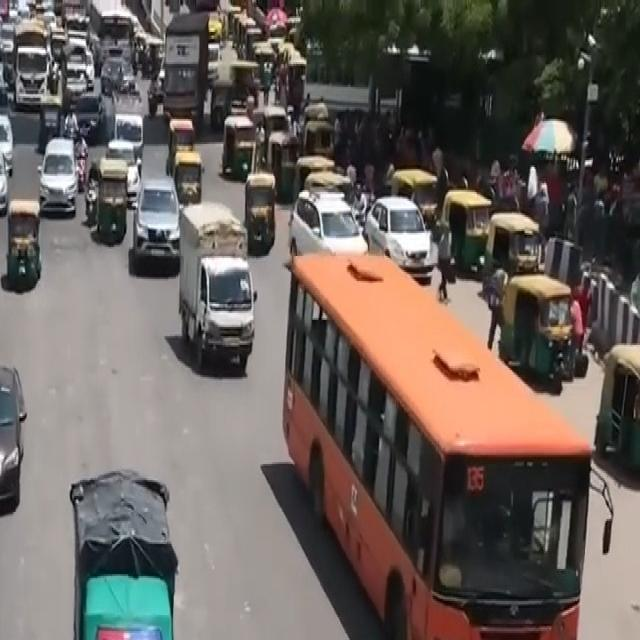car: (280, 182, 385, 302), (359, 190, 447, 300), (0, 340, 41, 535), (125, 169, 190, 274), (0, 135, 19, 222)
rickshaw: (0, 197, 50, 304)
van: (265, 208, 614, 640), (39, 430, 210, 640), (168, 208, 268, 382), (352, 626, 588, 640)
